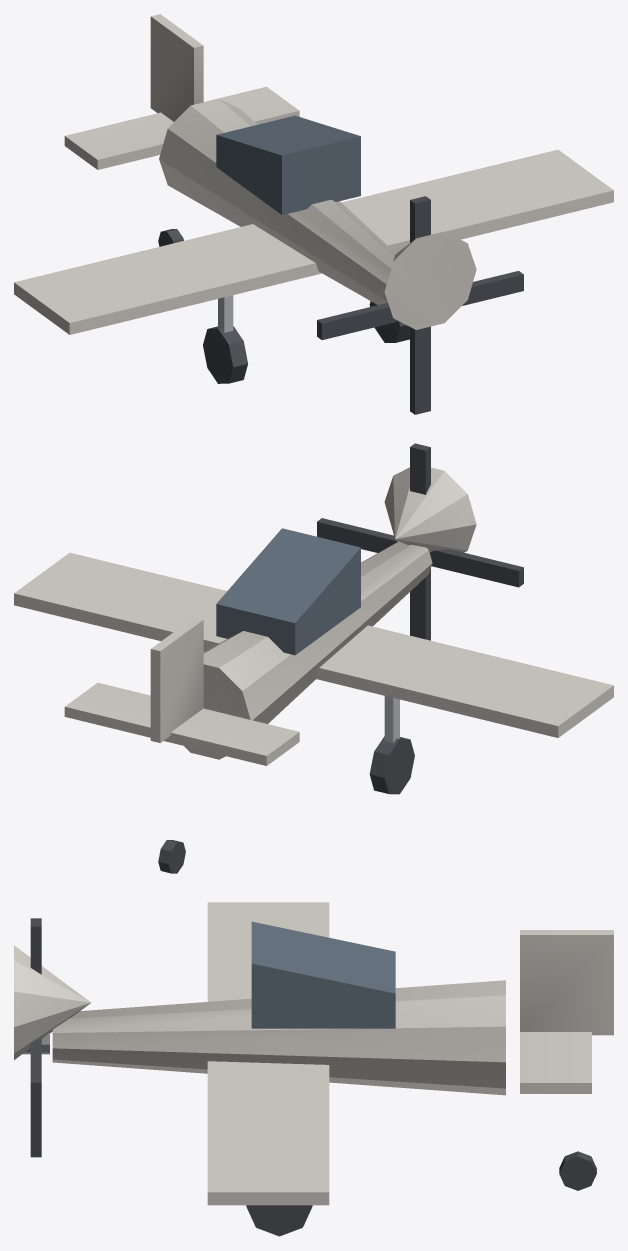
File: veh_plane.glb
3 views of the same model, one above another, from view 1: azimuth 30°, elevation 25°; view 2: azimuth 150°, elevation 25°; view 3: azimuth 270°, elevation 25° (orthographic). The views are drawn at different scales.
Visible parts, largest first — view 1: veh_plane, veh_plane_prop; view 2: veh_plane, veh_plane_prop; view 3: veh_plane, veh_plane_prop.
Part boxes in pixels (box(x1,y1,x2,y2)): veh_plane: box(14, 14, 613, 383); veh_plane_prop: box(317, 196, 523, 414); veh_plane: box(14, 467, 613, 873); veh_plane_prop: box(317, 443, 523, 640); veh_plane: box(14, 902, 613, 1236); veh_plane_prop: box(22, 918, 49, 1157).
Size of the model in its own units: 1.24 by 0.53 by 1.09.
